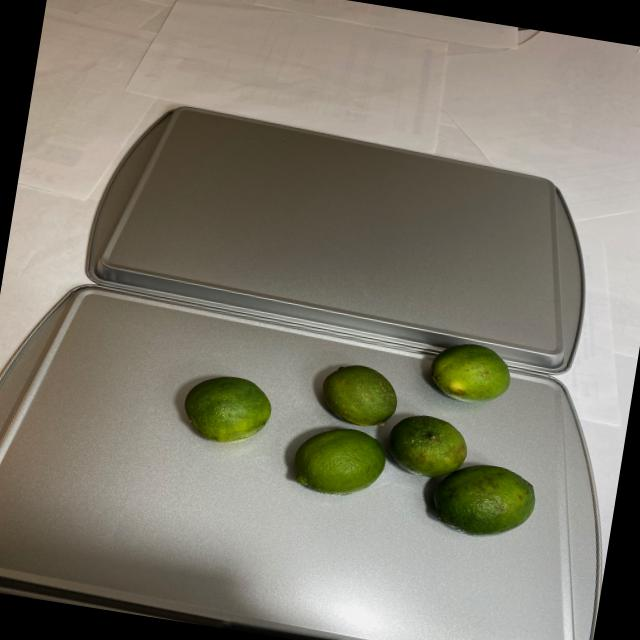lemon: (166, 300, 564, 550)
